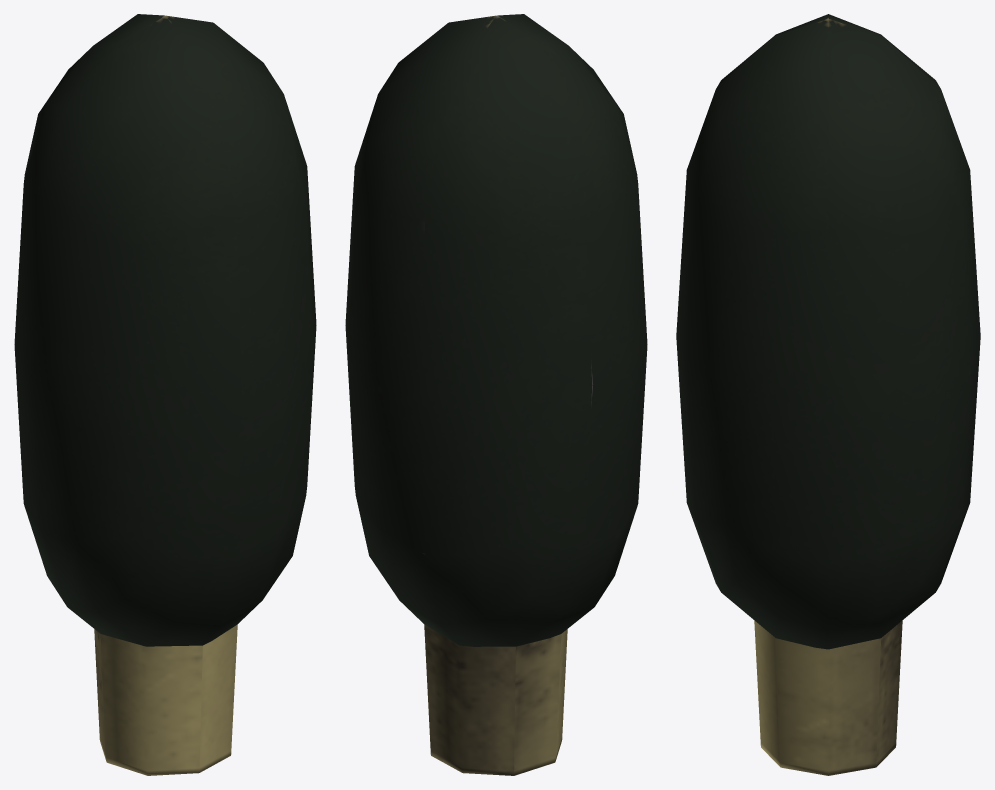
3 views of the same model, side by side, from view 1: azimuth 30°, elevation 25°; view 2: azimuth 150°, elevation 25°; view 3: azimuth 270°, elevation 25° (orthographic).
Visible parts, largest first — view 1: BULB; view 2: BULB; view 3: BULB.
Boxes of the visible parts, x1,y1,x2,y2 form: BULB: (14, 14, 316, 775); BULB: (345, 14, 647, 775); BULB: (676, 14, 980, 775).
Bounding box in the file's own units: 65.09 × 172 × 65.09.
3 materials, 3 textured.
